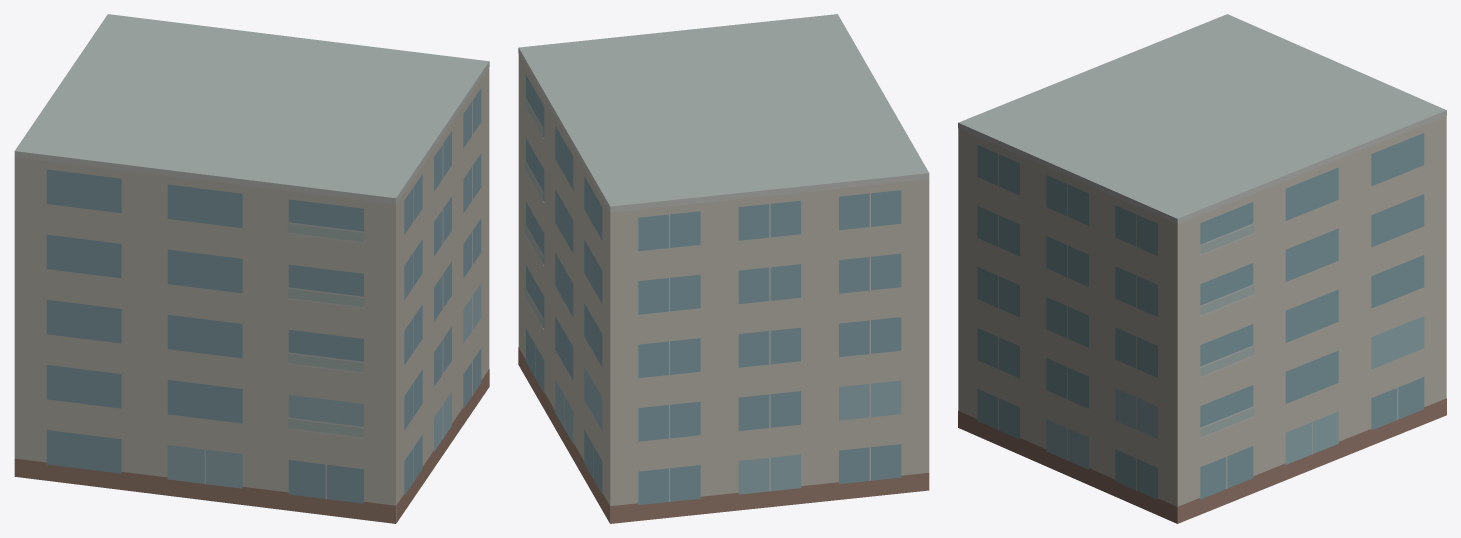
The model's file is survey-upis-32922920.glb.
3 views of the same model, side by side, from view 1: azimuth 30°, elevation 25°; view 2: azimuth 150°, elevation 25°; view 3: azimuth 270°, elevation 25° (orthographic). The views are drawn at different scales.
Parts seen in each view (by area): view 1: survey-upis-32922920.tmp; view 2: survey-upis-32922920.tmp; view 3: survey-upis-32922920.tmp.
Part boxes in pixels (x1,y1,x2,y2): survey-upis-32922920.tmp: (14, 14, 489, 523); survey-upis-32922920.tmp: (518, 14, 929, 523); survey-upis-32922920.tmp: (958, 14, 1446, 523).
Size of the model in its own units: 19.02 by 13.2 by 19.17.
